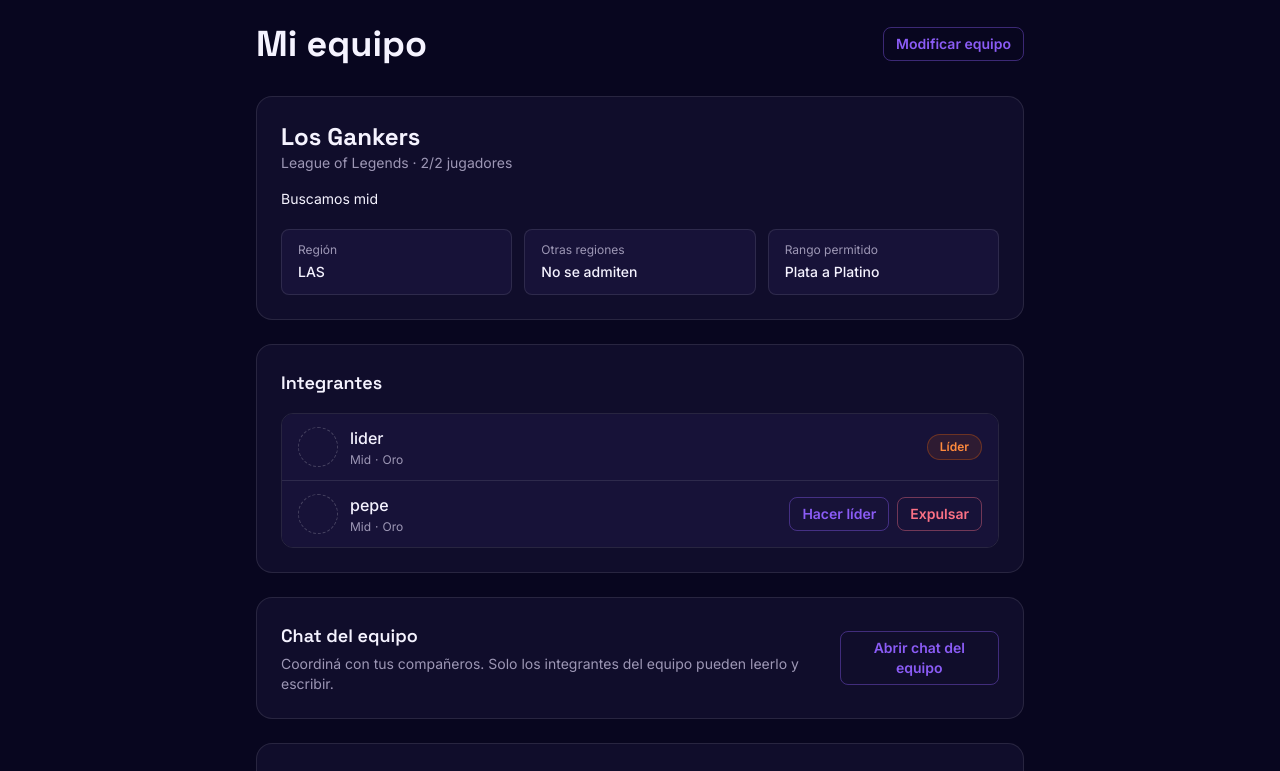
Scenario: MiEquipoPage › US 43 - Transferir liderazgo › el líder elige a otro integrante, confirma y se actualizan los roles
Click the button "Hacer líder". click: (839, 514)
box: 789,497 -> 889,531
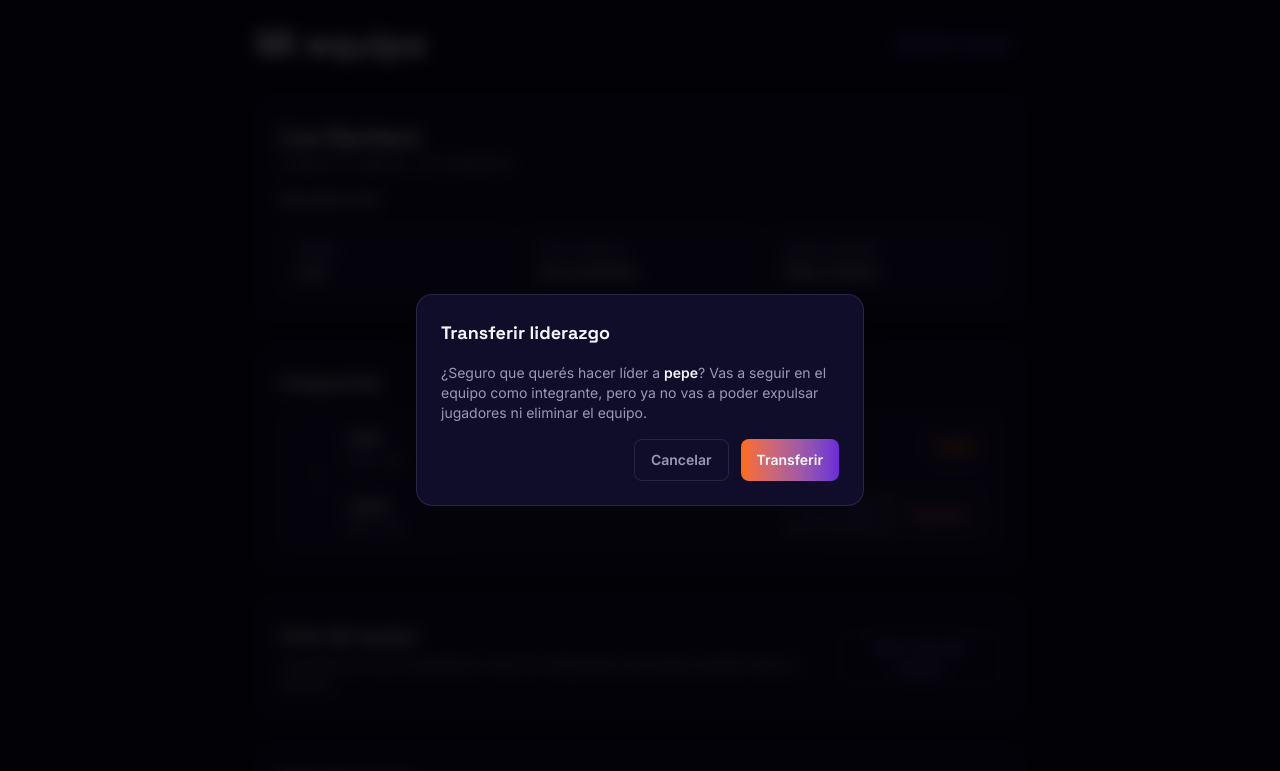
Expected: the text "pepe" is shown, 664,364 -> 698,381
Click the button "Transferir". click: (790, 460)
box: 741,439 -> 839,481
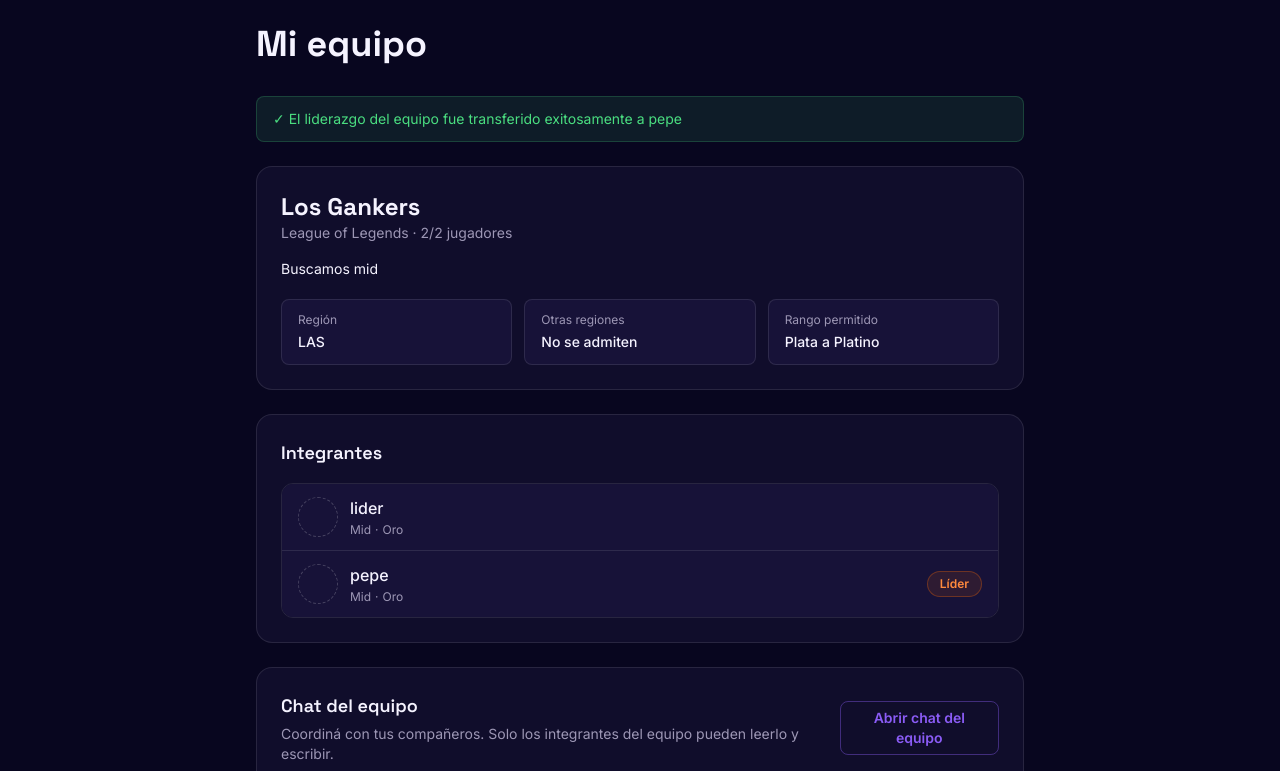
Expected: the text "transferido exitosamente a pepe" is shown, 289,110 -> 682,127
Expected: the button "Hacer líder" is gone
